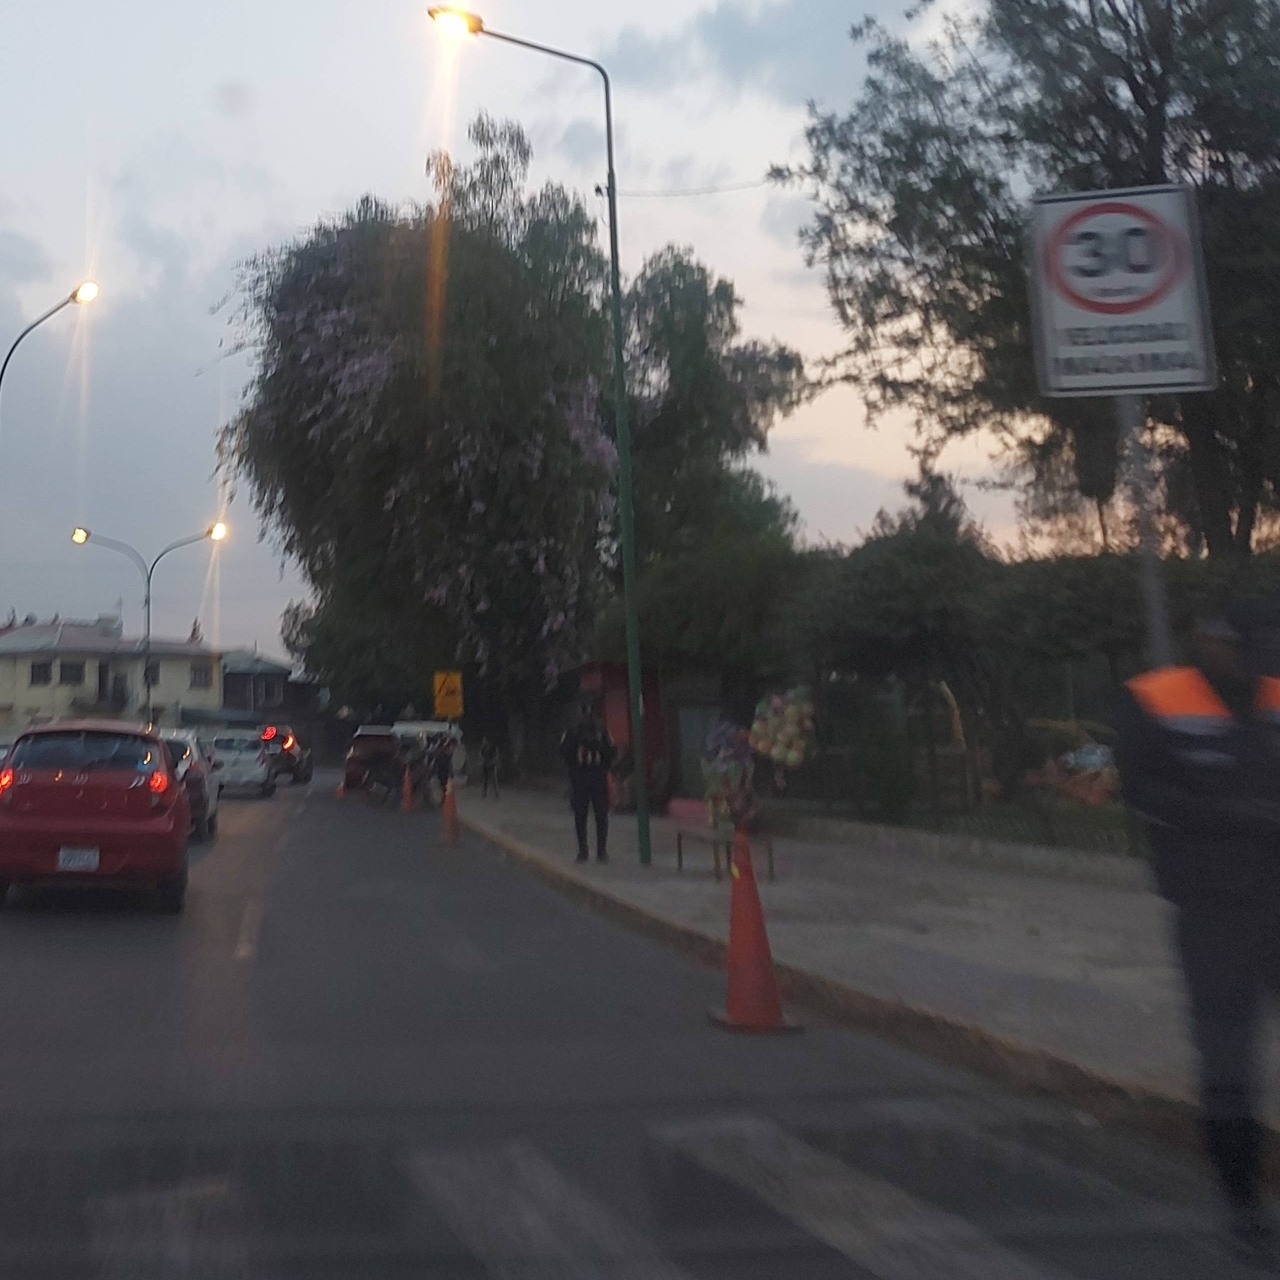limite-velocidad-30: (1029, 187, 1217, 390)
